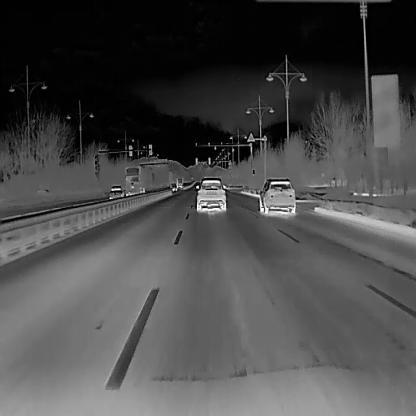car: (258, 177, 295, 216), (195, 176, 226, 212), (124, 166, 145, 195), (108, 183, 123, 200), (170, 182, 177, 190)
